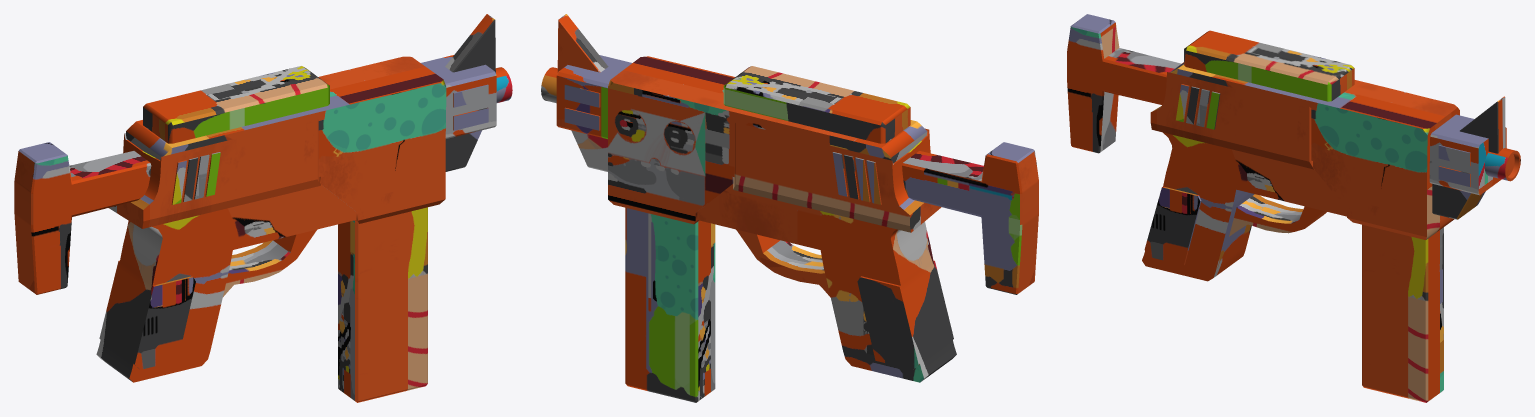
The model's file is SMG.fbx.
The picture shows the model from 3 angles, left to right: view 1: azimuth 30°, elevation 25°; view 2: azimuth 150°, elevation 25°; view 3: azimuth 330°, elevation 25°; orthographic projection. The views are drawn at different scales.
Parts seen in each view (by area): view 1: pCube59; view 2: pCube59; view 3: pCube59.
Boxes of the visible parts, x1=… form: pCube59: x1=14, y1=14, x2=512, y2=402; pCube59: x1=541, y1=14, x2=1038, y2=402; pCube59: x1=1067, y1=14, x2=1520, y2=402.
Size of the model in its own units: 22.97 by 15.76 by 3.21.
